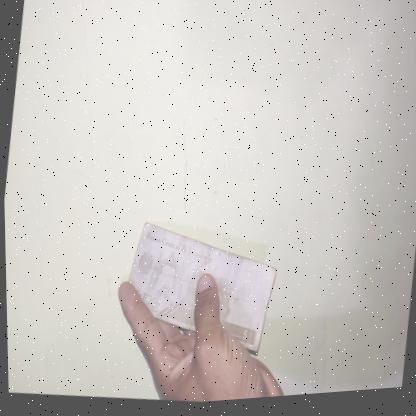five-back-vef: (114, 213, 282, 366)
